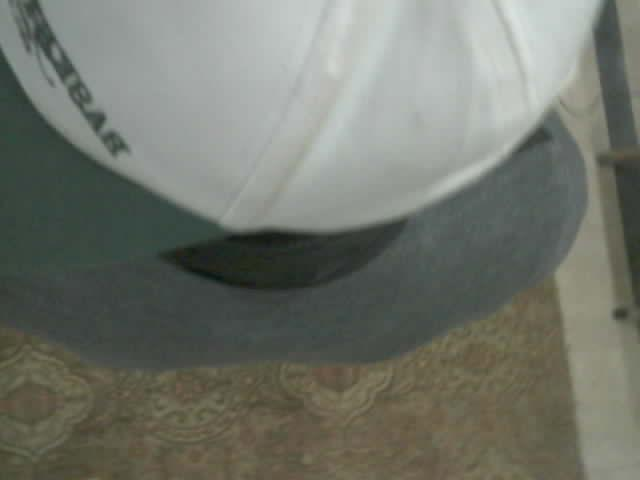cap: (0, 0, 605, 365)
